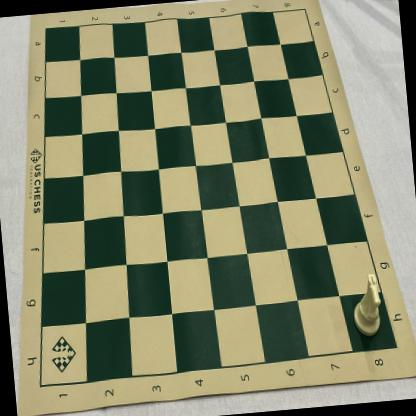knight: (350, 274, 384, 338)
